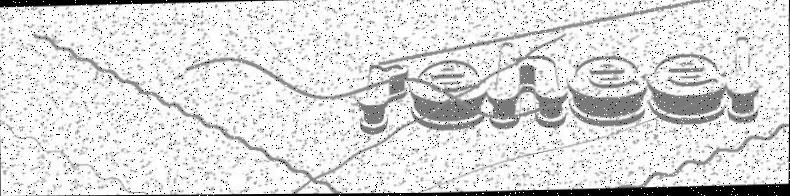e: (566, 54, 648, 129), (646, 52, 727, 127), (408, 58, 489, 132)
h: (486, 41, 570, 131)
l: (724, 36, 762, 126)
r: (358, 63, 410, 135)
